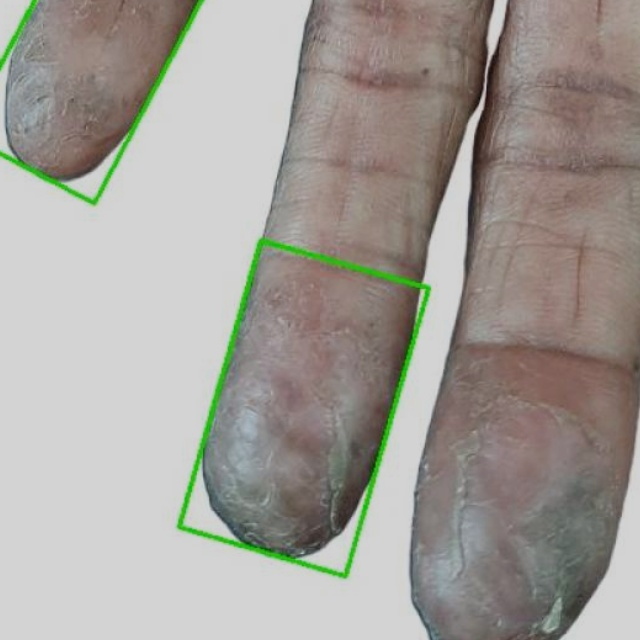Contact Dermatitis: (0, 0, 639, 639), (177, 241, 427, 576), (0, 0, 201, 204)
